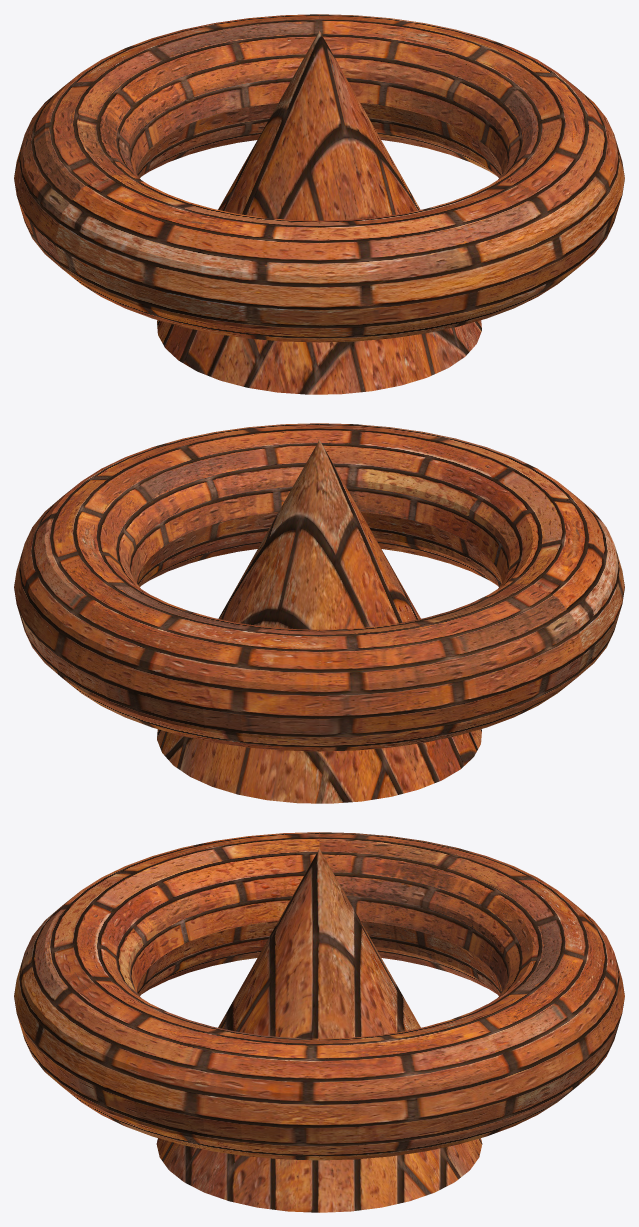
The model's file is torusCone.glb.
The picture shows the model from 3 angles, top to bottom: view 1: azimuth 30°, elevation 25°; view 2: azimuth 150°, elevation 25°; view 3: azimuth 270°, elevation 25°; orthographic projection.
Visible parts, largest first — view 1: Torus, Cone; view 2: Torus, Cone; view 3: Torus, Cone.
Boxes of the visible parts, x1,y1,x2,y2 form: Torus: (14,14,624,342); Cone: (157,31,481,394); Torus: (14,423,624,751); Cone: (157,440,481,803); Torus: (14,832,624,1160); Cone: (156,849,482,1212).
Bounding box in the file's own units: 3.75 × 2 × 3.75.
Materials: 1 (1 with a texture image).
